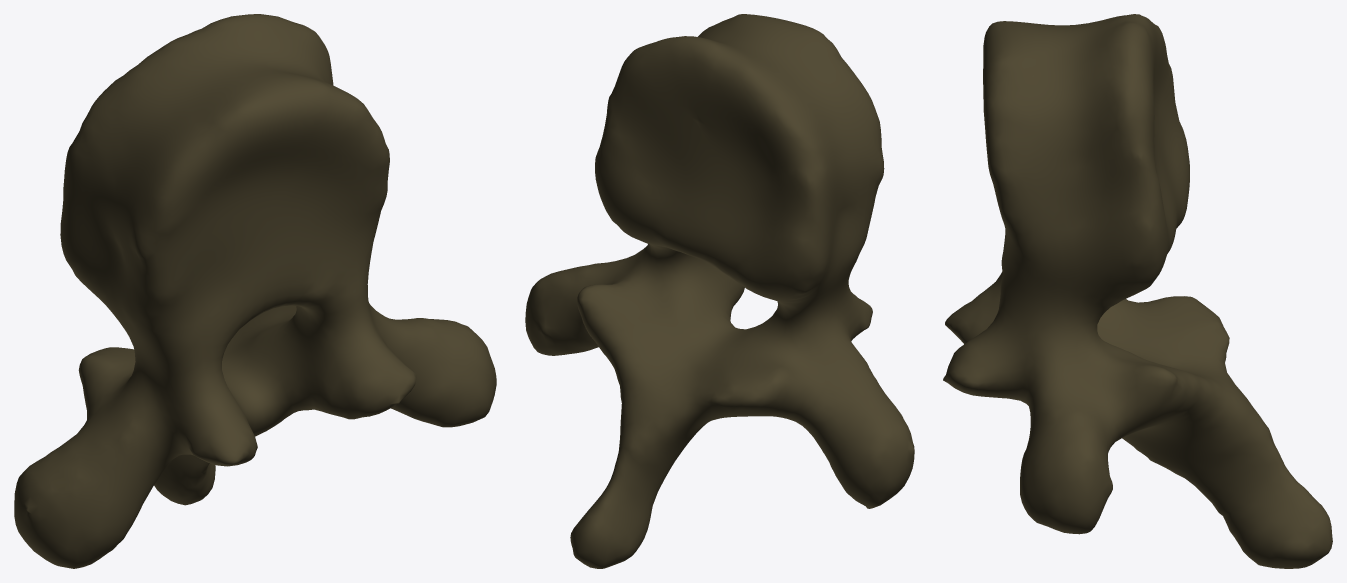
Rendered from segmentations_vertebrae_T9.obj.
3 views of the same model, side by side, from view 1: azimuth 30°, elevation 25°; view 2: azimuth 150°, elevation 25°; view 3: azimuth 270°, elevation 25° (orthographic). The views are drawn at different scales.
Visible parts, largest first — view 1: grp1; view 2: grp1; view 3: grp1.
Boxes of the visible parts, box(x1,y1,x2,y2) form: grp1: box(14, 14, 496, 568); grp1: box(525, 14, 914, 568); grp1: box(943, 14, 1332, 568).
Bounding box in the file's own units: 41.38 × 47.68 × 32.07.
